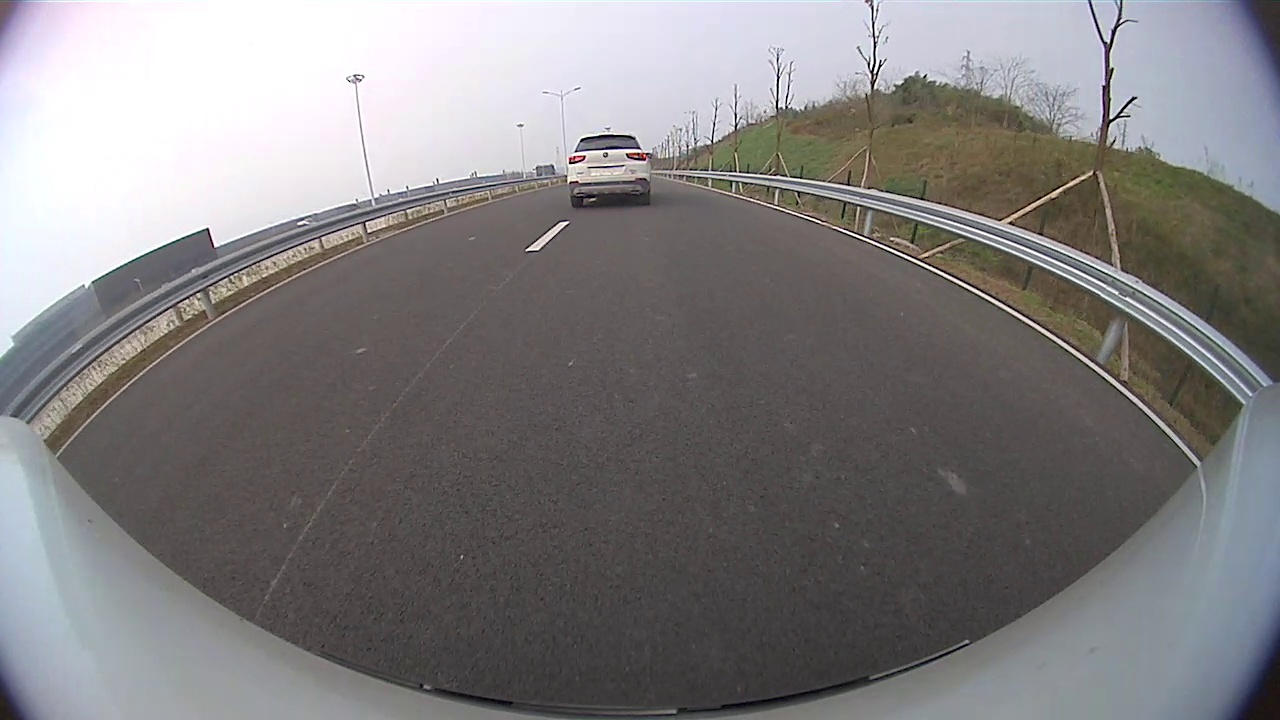car: (566, 132, 654, 211)
